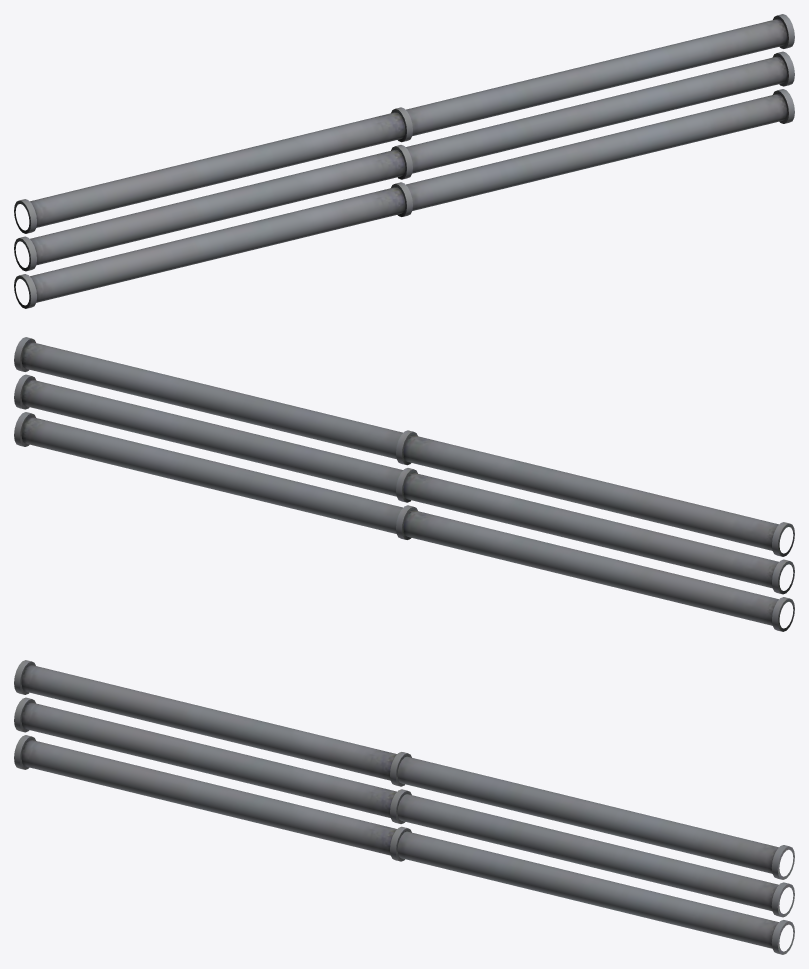
3 views of the same model, one above another, from view 1: azimuth 30°, elevation 25°; view 2: azimuth 150°, elevation 25°; view 3: azimuth 330°, elevation 25° (orthographic).
Parts seen in each view (by area): view 1: body0_model0_lod0_mesh0; view 2: body0_model0_lod0_mesh0; view 3: body0_model0_lod0_mesh0.
Part boxes in pixels (<box>): body0_model0_lod0_mesh0: <box>14,14,794,308</box>; body0_model0_lod0_mesh0: <box>14,337,794,631</box>; body0_model0_lod0_mesh0: <box>14,660,794,954</box>.
Size of the model in its own units: 256 by 34 by 10.03.
1 material, 1 textured.
